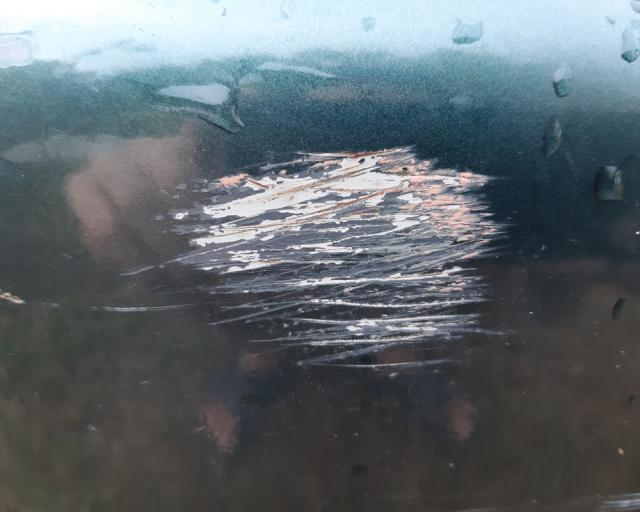scratch: (0, 144, 515, 372)
